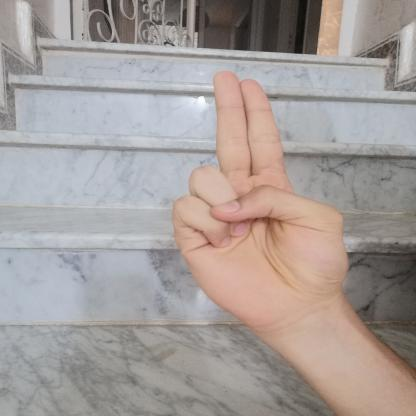TA: (152, 56, 363, 334)
